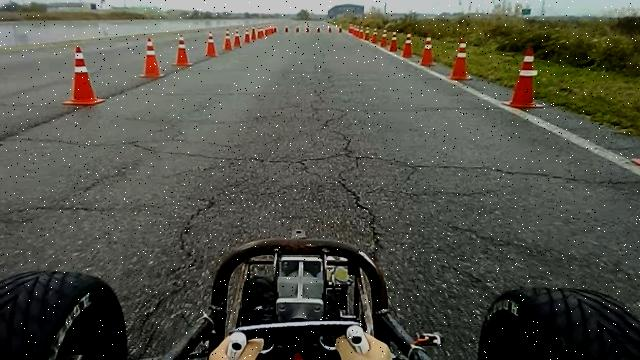red cone: (62, 45, 106, 106), (502, 46, 544, 108), (139, 37, 165, 78), (448, 41, 473, 80), (172, 34, 193, 67), (420, 35, 436, 65), (205, 30, 218, 57), (401, 32, 414, 58), (223, 28, 233, 51), (389, 31, 399, 52), (233, 27, 242, 47), (380, 28, 388, 47), (371, 27, 379, 44), (244, 27, 251, 43), (364, 26, 371, 40)
